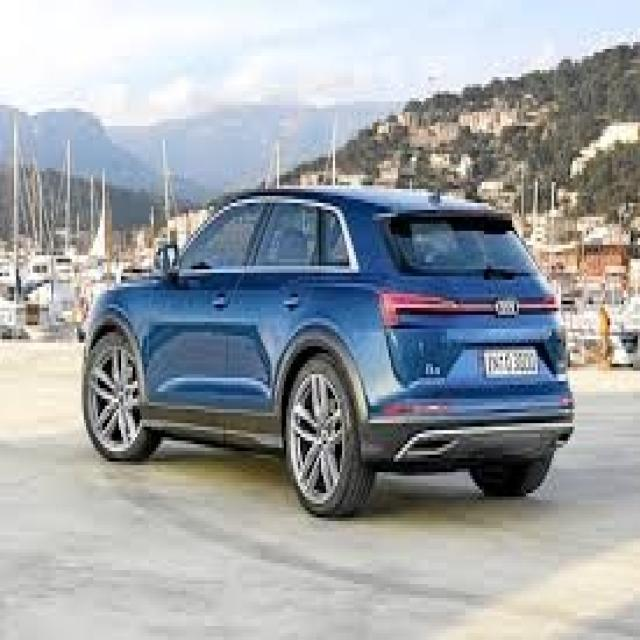blue: (81, 197, 572, 485)
